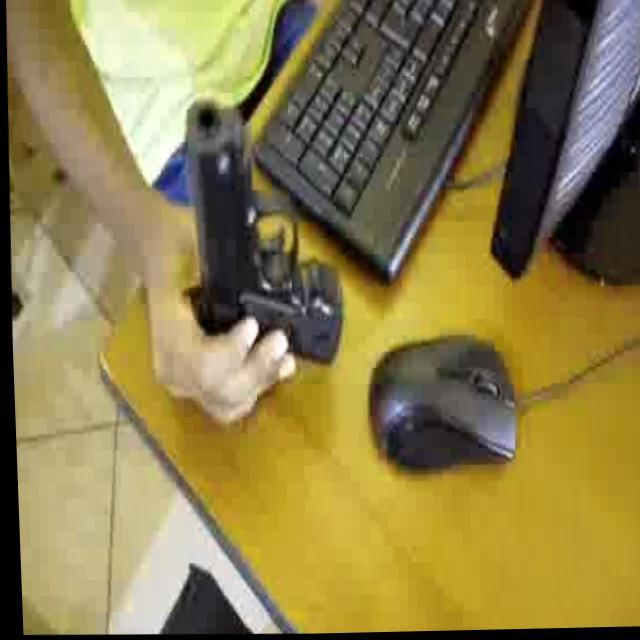weapon: (176, 94, 346, 369)
